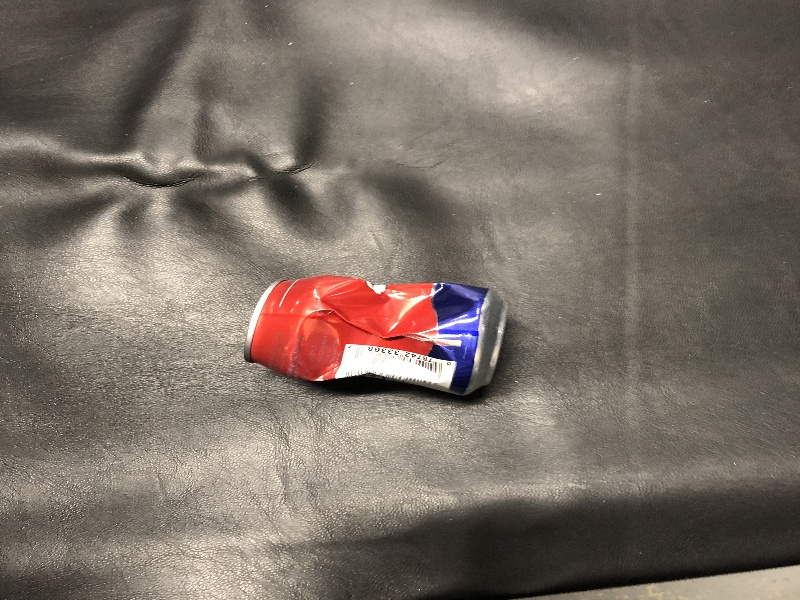metal: (235, 262, 518, 410)
